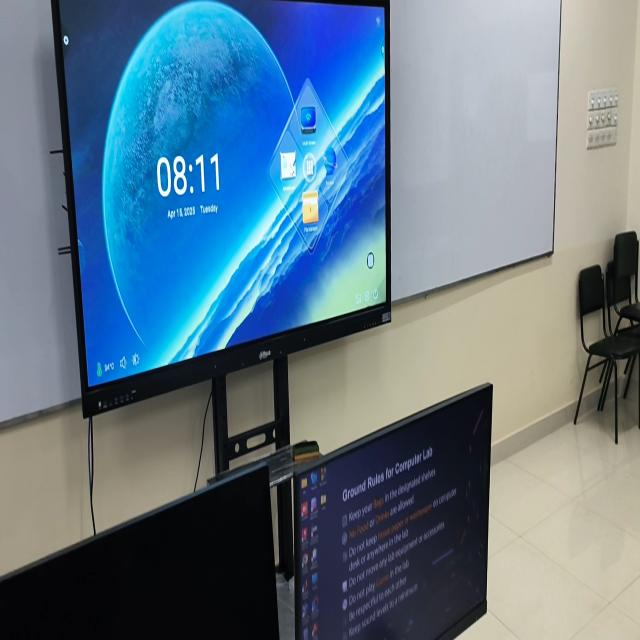Chair: (574, 265, 640, 443), (605, 231, 640, 332)
Digital board: (52, 0, 391, 533)
Monitor: (295, 385, 492, 639), (0, 465, 279, 639)
